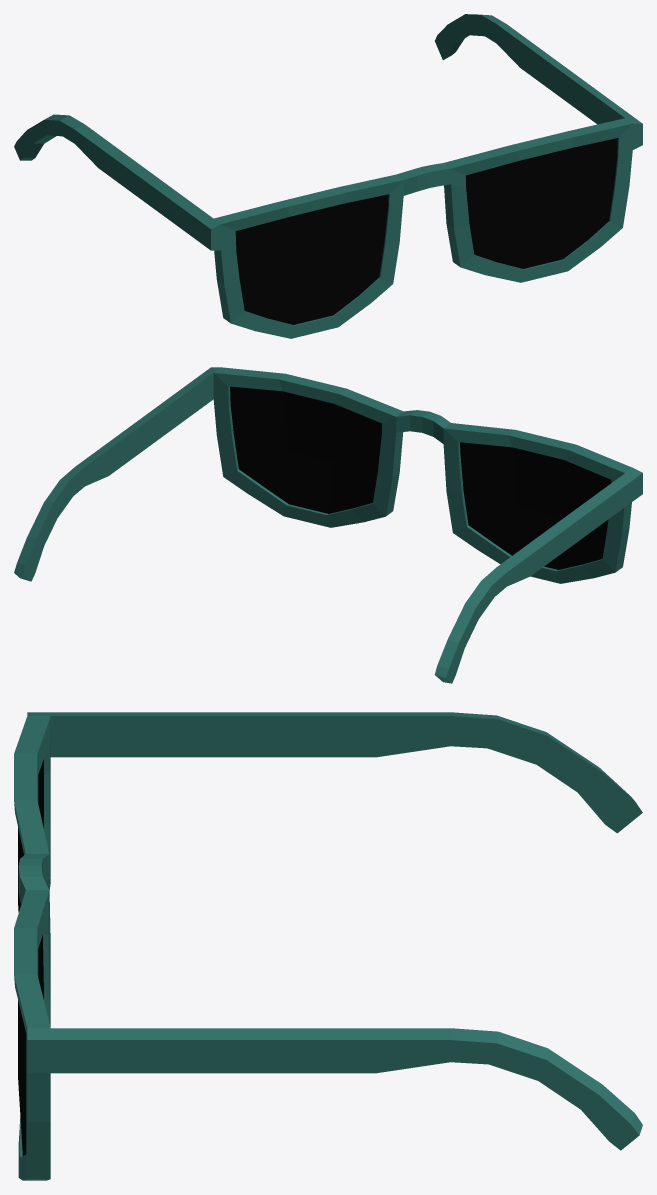
Rendered from blue_sunglasses.glb.
3 renders of one model, top to bottom at view 1: azimuth 30°, elevation 25°; view 2: azimuth 150°, elevation 25°; view 3: azimuth 270°, elevation 25°, orthographic. The views are drawn at different scales.
Visible parts, largest first — view 1: Blue_sunglasses; view 2: Blue_sunglasses; view 3: Blue_sunglasses.
Boxes of the visible parts, x1,y1,x2,y2 form: Blue_sunglasses: (14, 14, 642, 338); Blue_sunglasses: (14, 367, 642, 683); Blue_sunglasses: (14, 712, 642, 1180).
Bounding box in the file's own units: 0.5167 × 0.1535 × 0.4189.
1 material, 1 textured.
